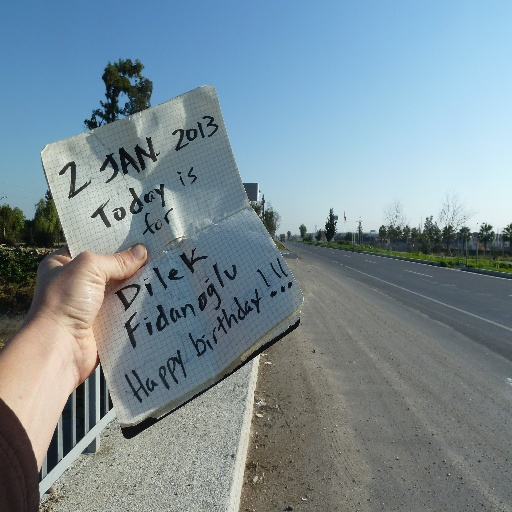hand: (10, 239, 134, 456)
